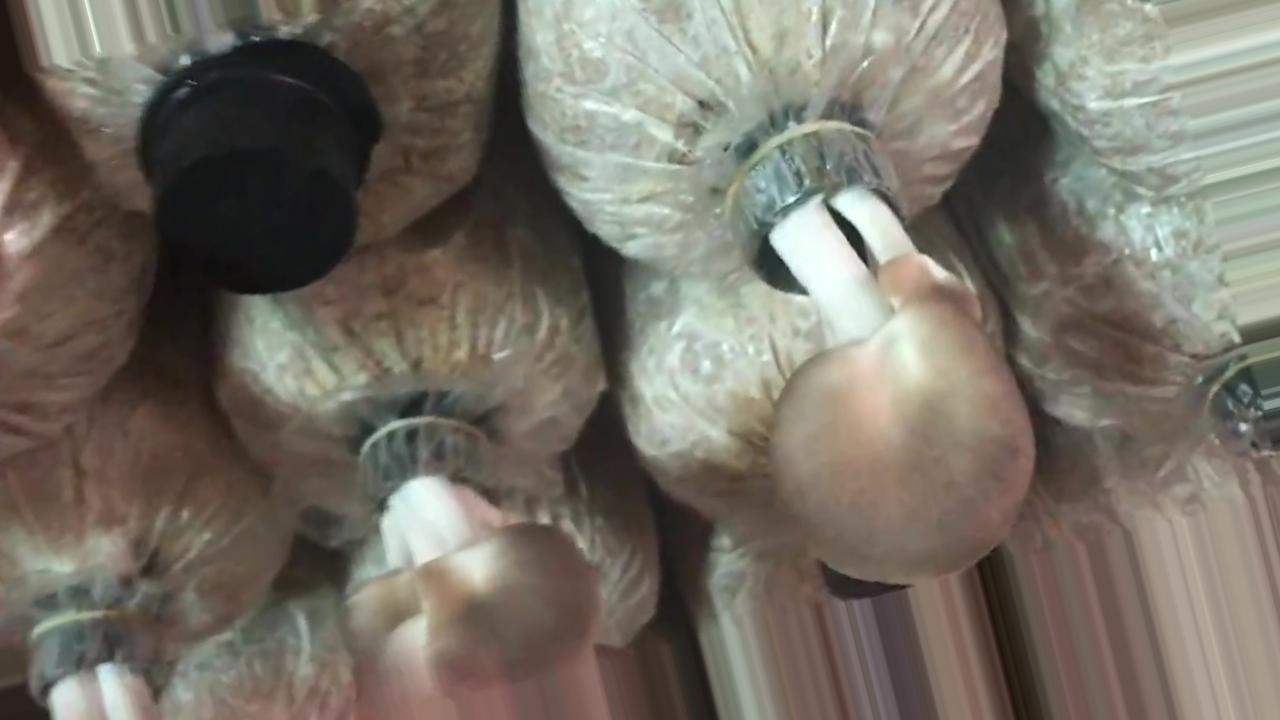nam: (727, 122, 1034, 583), (350, 417, 603, 691)
